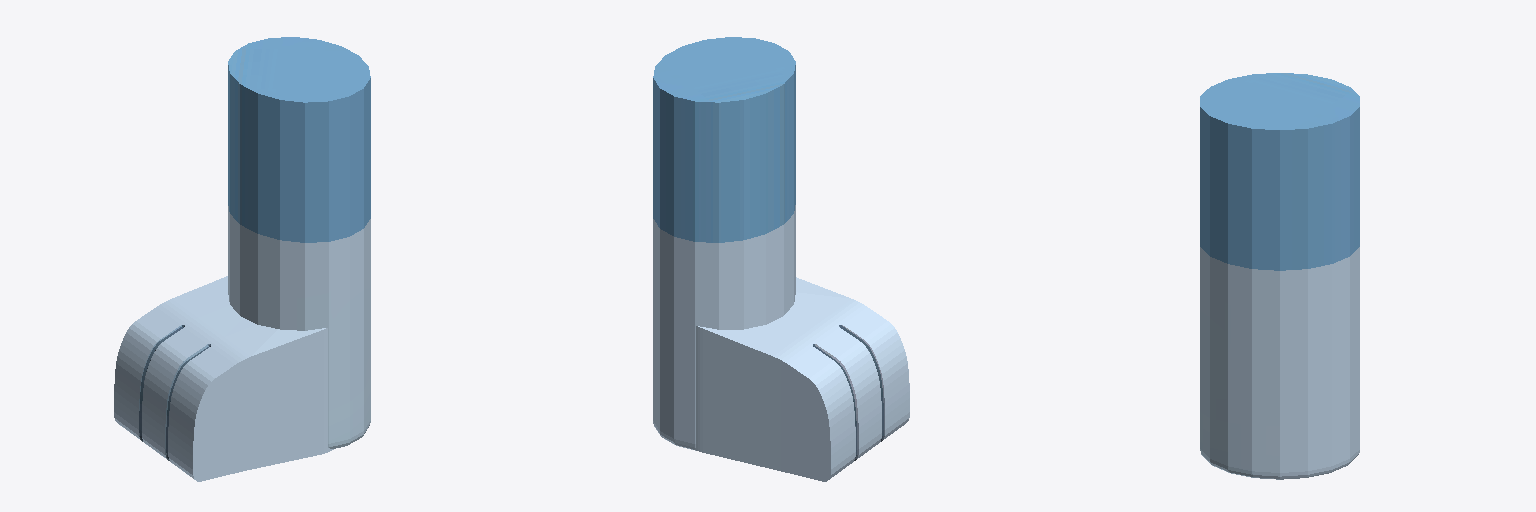
3 views of the same model, side by side, from view 1: azimuth 30°, elevation 25°; view 2: azimuth 150°, elevation 25°; view 3: azimuth 270°, elevation 25° (orthographic).
Parts seen in each view (by area): view 1: Cylinder012; view 2: Cylinder012; view 3: Cylinder012.
Part boxes in pixels (x1,y1,x2,y2): Cylinder012: (114, 37, 370, 481); Cylinder012: (653, 37, 909, 481); Cylinder012: (1200, 73, 1359, 479).
Bounding box in the file's own units: 14 × 22.9 × 9.44.
Materials: 1 (1 with a texture image).